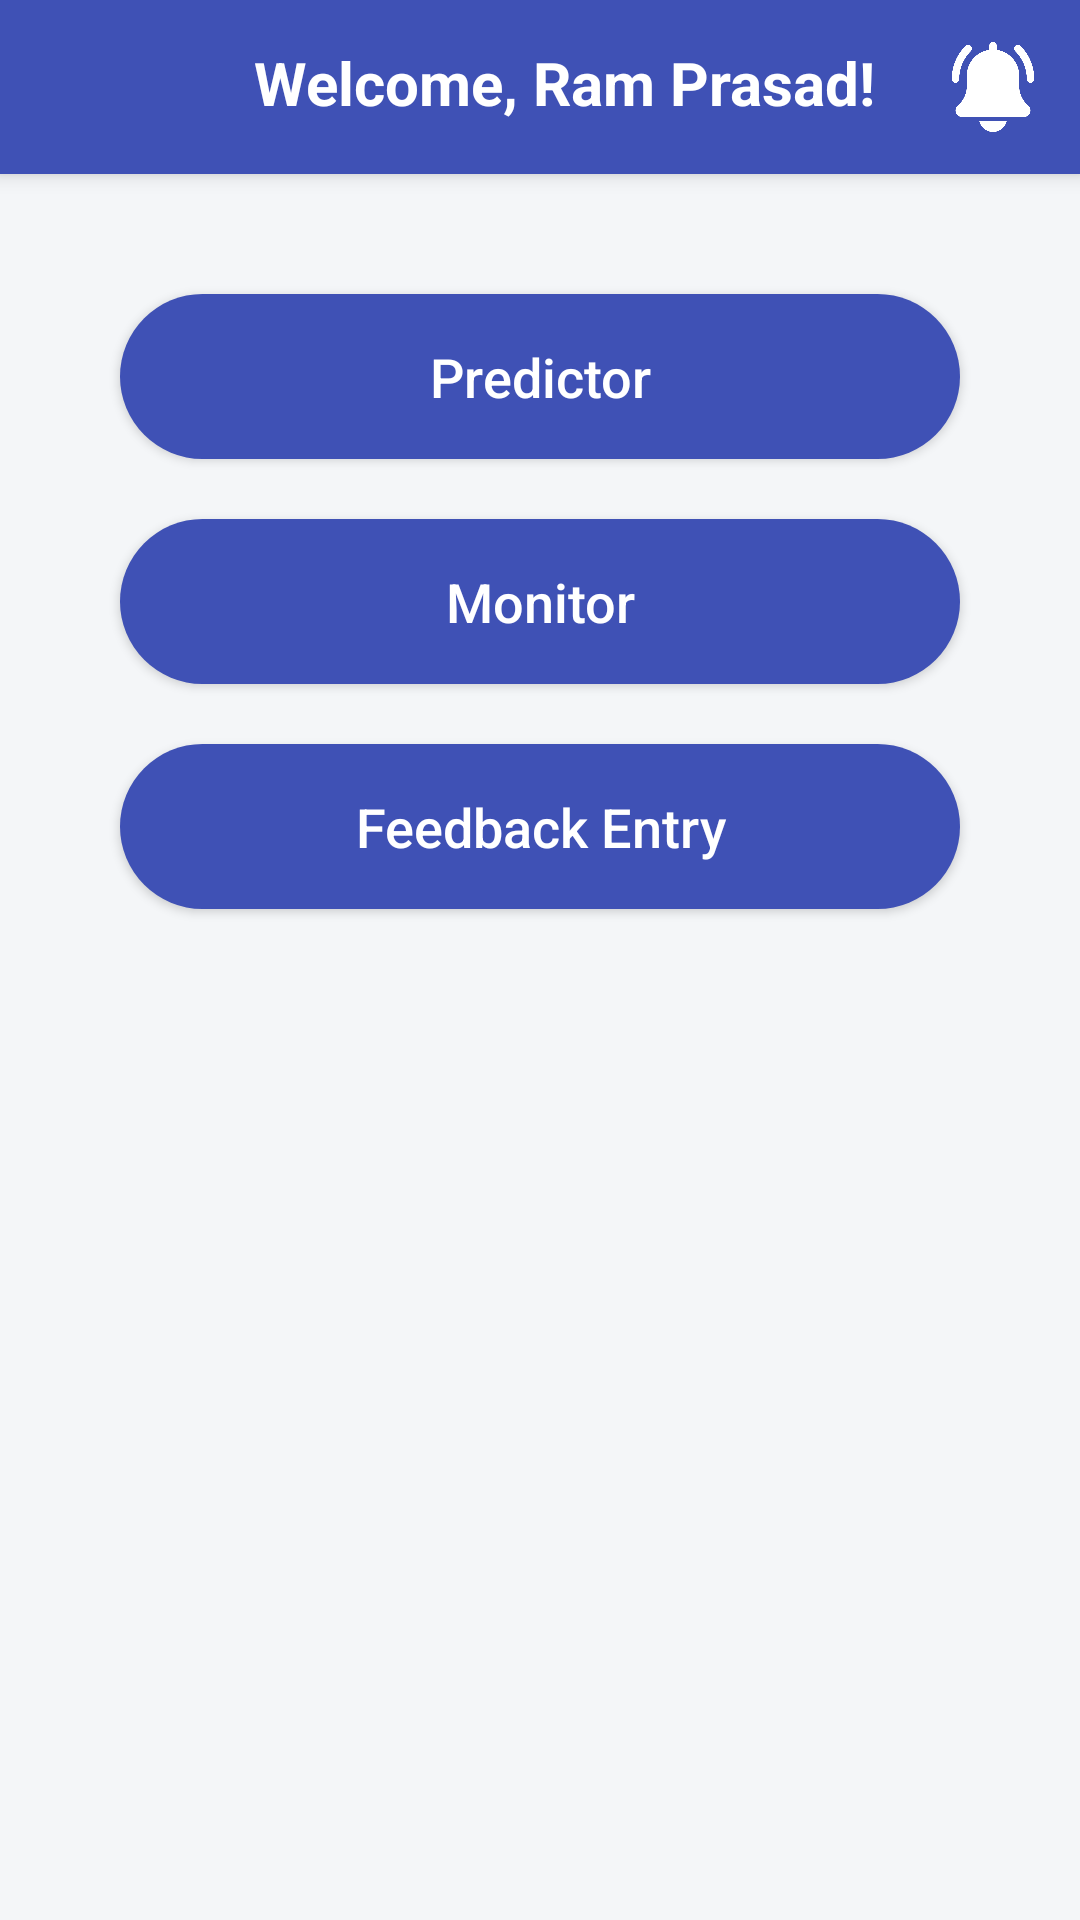

Named icons in this screenshot (1080 × 1920) and their bounding boxes, BBox(x1, y1, x2, y2):
Notifications: BBox(952, 42, 1034, 132)
